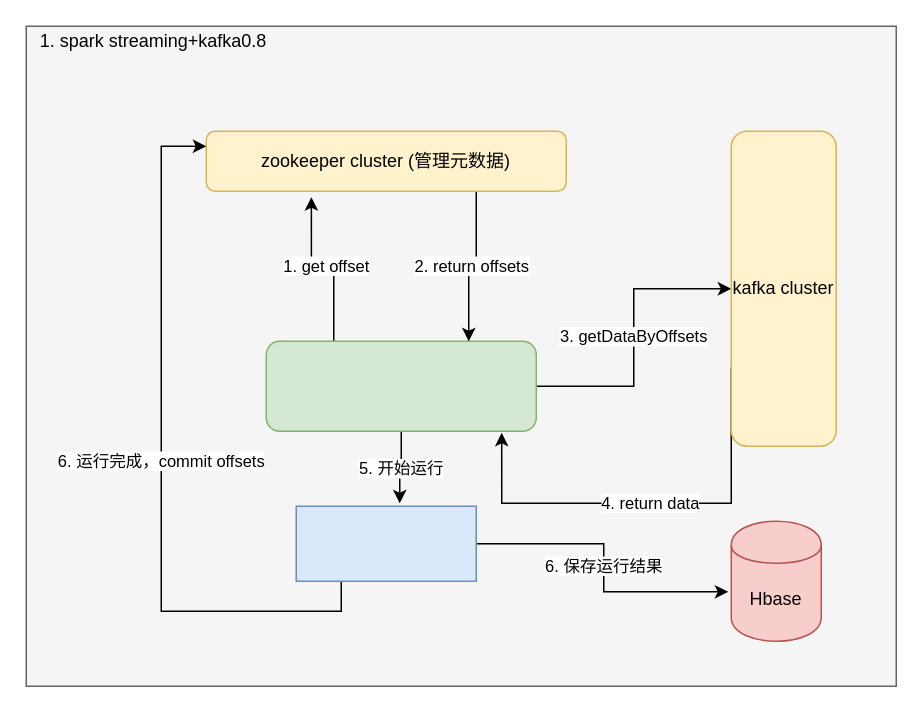
Some shapes in this 923 by 713 pixel diagram are drawn without their labels. The centre of each missing label's shape, as x and y in pixels:
"Spark Streaming" belongs at pixel 400 385.
"程序运行" belongs at pixel 385 543.
